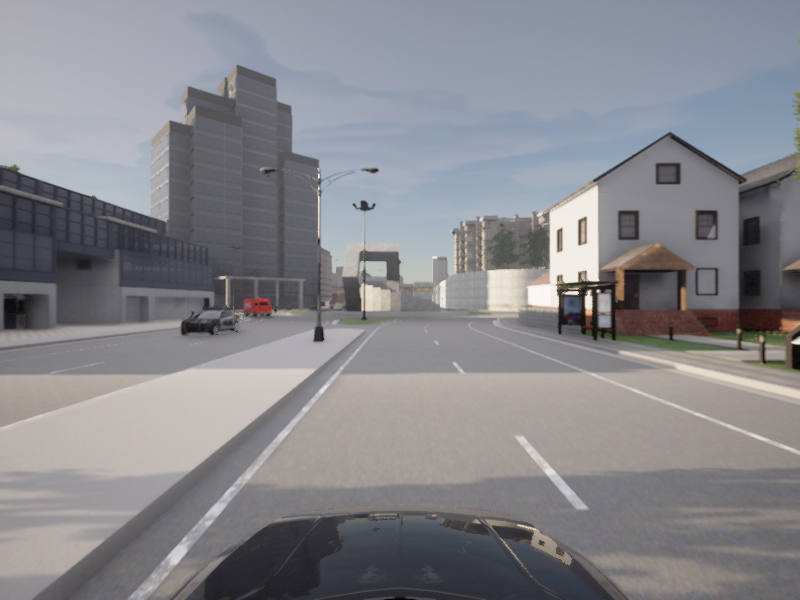vehicle: (172, 307, 242, 338)
